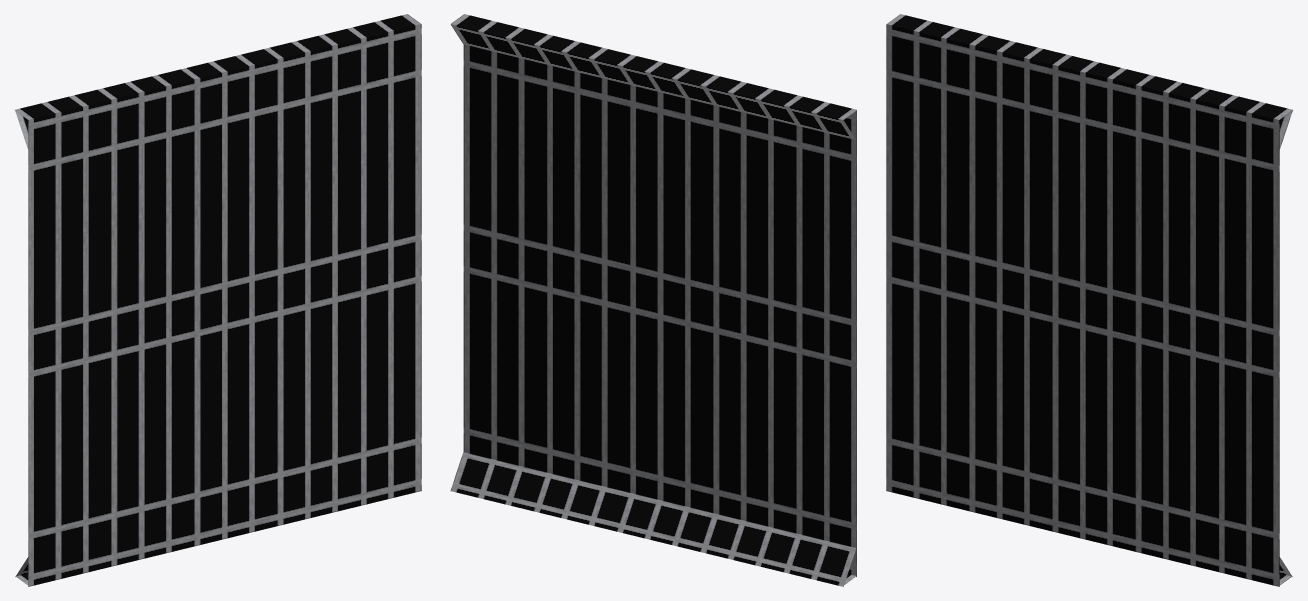
File: fence-mesh-grey-1m-noPost-cbj_LOD00.gltf
3 renders of one model, left to right at view 1: azimuth 30°, elevation 25°; view 2: azimuth 150°, elevation 25°; view 3: azimuth 330°, elevation 25°, orthographic.
Visible parts, largest first — view 1: post; view 2: post; view 3: post.
Boxes of the visible parts, left/top/right/bottom form: post: left=15, top=14, right=421, bottom=586; post: left=450, top=14, right=856, bottom=586; post: left=886, top=14, right=1292, bottom=586.
Size of the model in its own units: 1.06 by 1.2 by 0.065.
